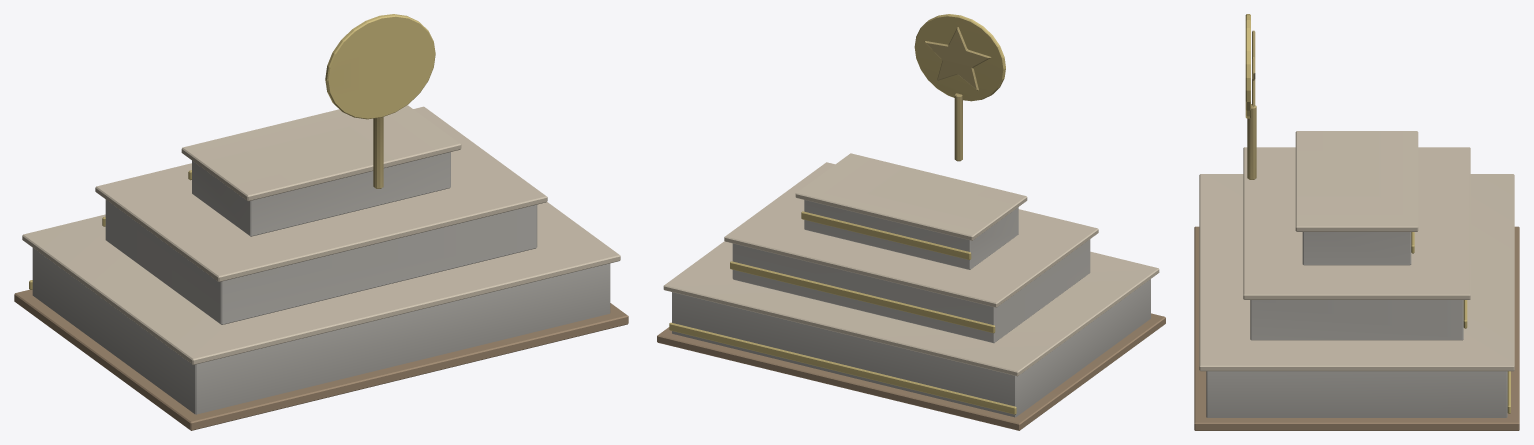
File: mall_today_table.glb
The picture shows the model from 3 angles, left to right: view 1: azimuth 30°, elevation 25°; view 2: azimuth 150°, elevation 25°; view 3: azimuth 270°, elevation 25°; orthographic projection. The views are drawn at different scales.
Parts seen in each view (by area): view 1: mall.today_table; view 2: mall.today_table; view 3: mall.today_table.
Part boxes in pixels (left/top/right/bottom): mall.today_table: left=14, top=14, right=628, bottom=430; mall.today_table: left=657, top=14, right=1165, bottom=430; mall.today_table: left=1194, top=14, right=1519, bottom=430.
Bounding box in the file's own units: 3.46 × 2.56 × 2.42.
